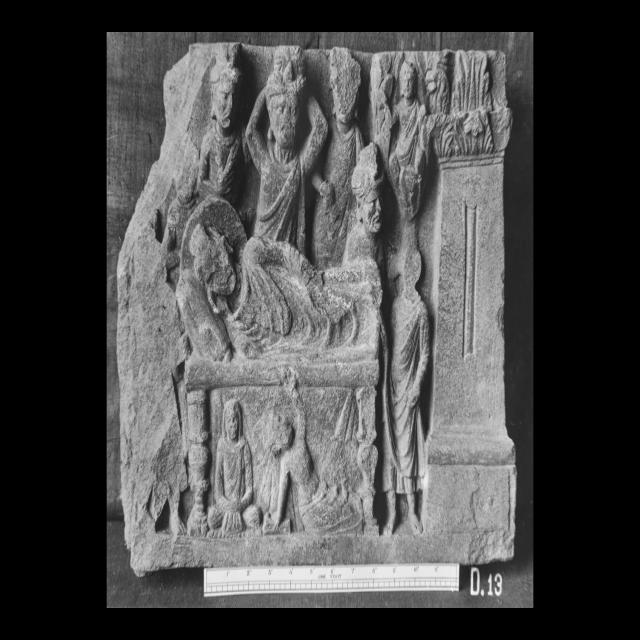buddha-sleeping: (175, 198, 381, 538)
